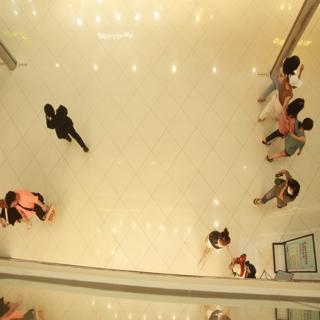person: (35, 95, 94, 159), (255, 49, 310, 107), (251, 166, 313, 210), (1, 186, 69, 224), (263, 120, 313, 162), (268, 99, 307, 141), (197, 222, 238, 256), (281, 73, 313, 104)
